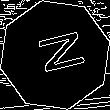N_W: (26, 29, 84, 81)
